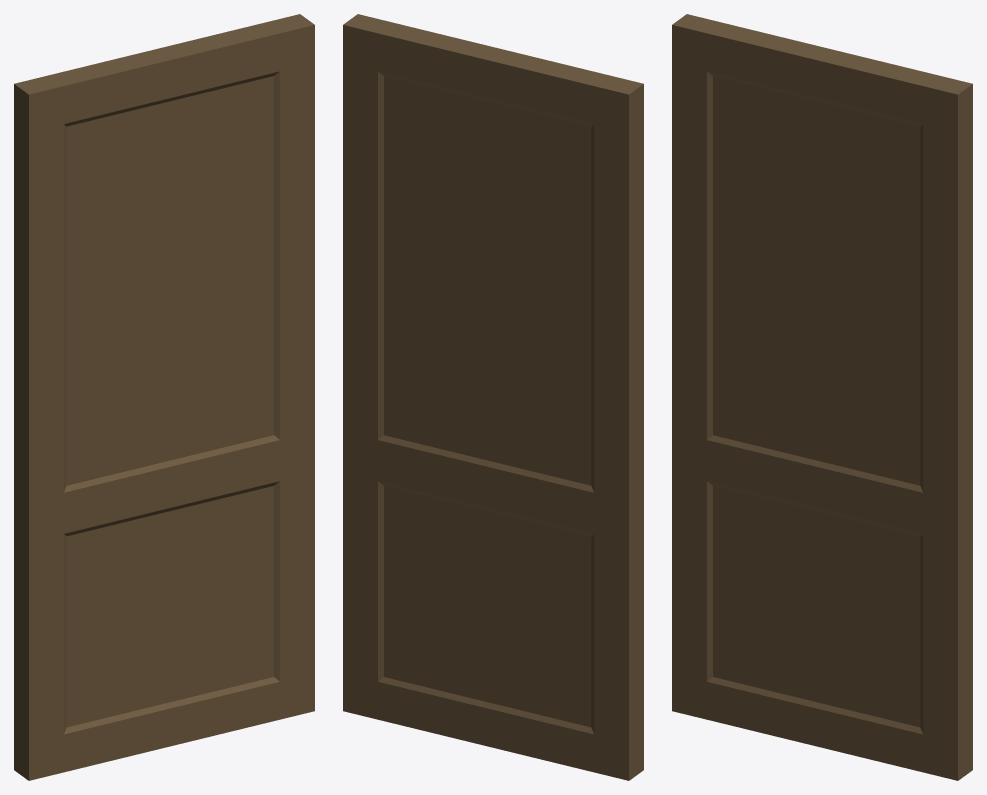
Rendered from Door3_C3.fbx.
The picture shows the model from 3 angles, left to right: view 1: azimuth 30°, elevation 25°; view 2: azimuth 150°, elevation 25°; view 3: azimuth 330°, elevation 25°; orthographic projection.
Parts seen in each view (by area): view 1: Door3_C3; view 2: Door3_C3; view 3: Door3_C3.
Part boxes in pixels (box(x1,y1,x2,y2)): Door3_C3: box(14, 14, 314, 780); Door3_C3: box(343, 14, 643, 780); Door3_C3: box(672, 14, 972, 780).
Size of the model in its own units: 89 by 204 by 8.
